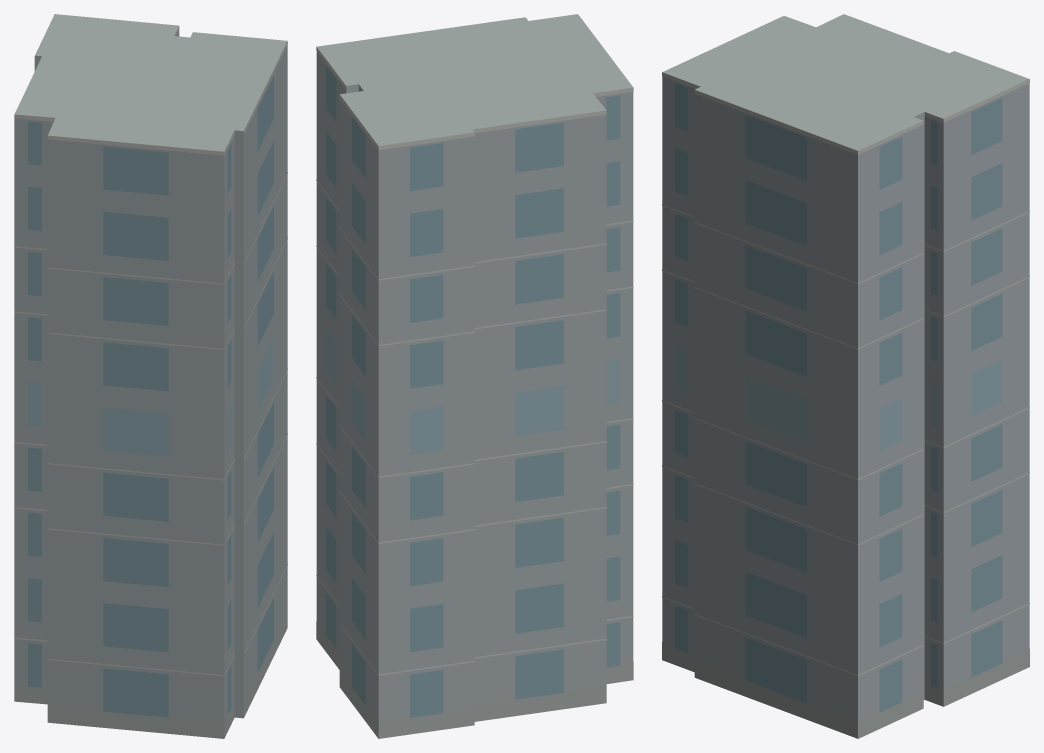
Rendered from survey-upis-32525774.glb.
The picture shows the model from 3 angles, left to right: view 1: azimuth 30°, elevation 25°; view 2: azimuth 150°, elevation 25°; view 3: azimuth 270°, elevation 25°; orthographic projection.
Parts seen in each view (by area): view 1: survey-upis-32525774.tmp; view 2: survey-upis-32525774.tmp; view 3: survey-upis-32525774.tmp.
Boxes of the visible parts, x1,y1,x2,y2 form: survey-upis-32525774.tmp: (14,14,287,738); survey-upis-32525774.tmp: (316,14,633,738); survey-upis-32525774.tmp: (662,14,1029,738).
Bounding box in the file's own units: 17.38 × 34.75 × 19.71.
